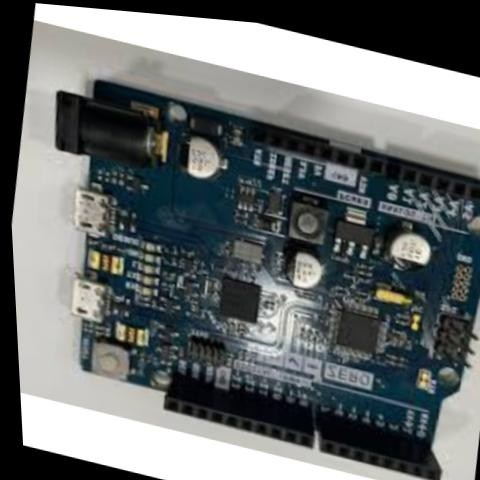Arduino-Zero: (9, 42, 480, 480)
